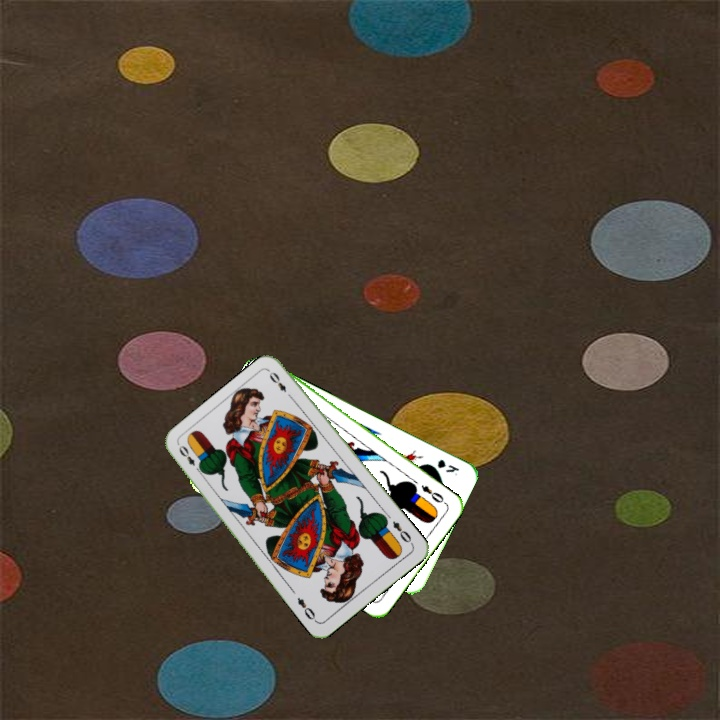EO: (174, 441, 205, 476), (388, 517, 416, 547), (417, 481, 449, 507)
GK: (433, 455, 461, 478)
